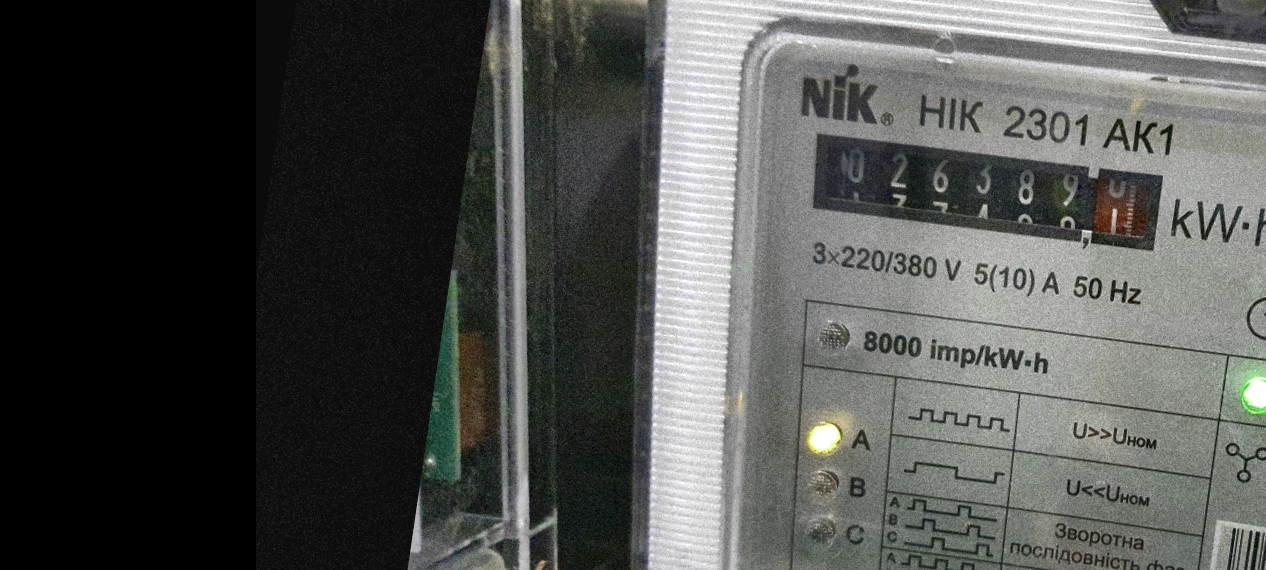0: (842, 143, 871, 185), (1107, 176, 1128, 199)
1: (1106, 203, 1123, 236)
2: (886, 149, 915, 191)
3: (973, 160, 995, 197)
6: (930, 154, 953, 195)
8: (1014, 166, 1040, 207)
9: (1058, 171, 1081, 207)
screen: (792, 111, 1182, 270)
